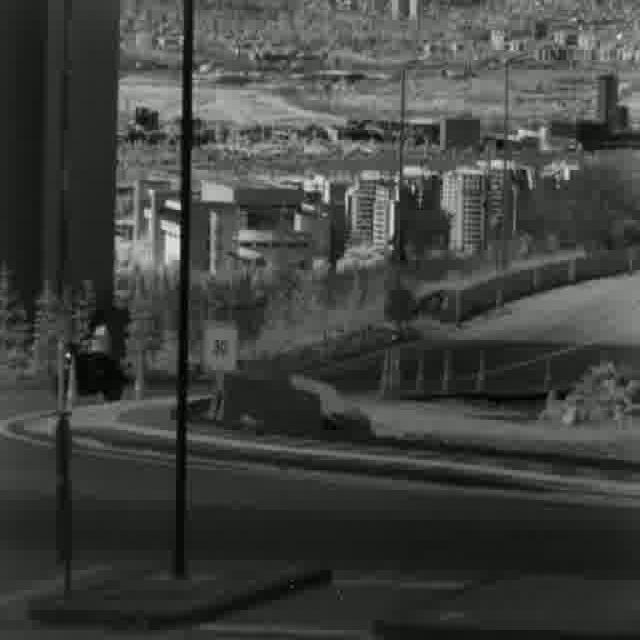Motorcycle: (58, 288, 134, 401)
